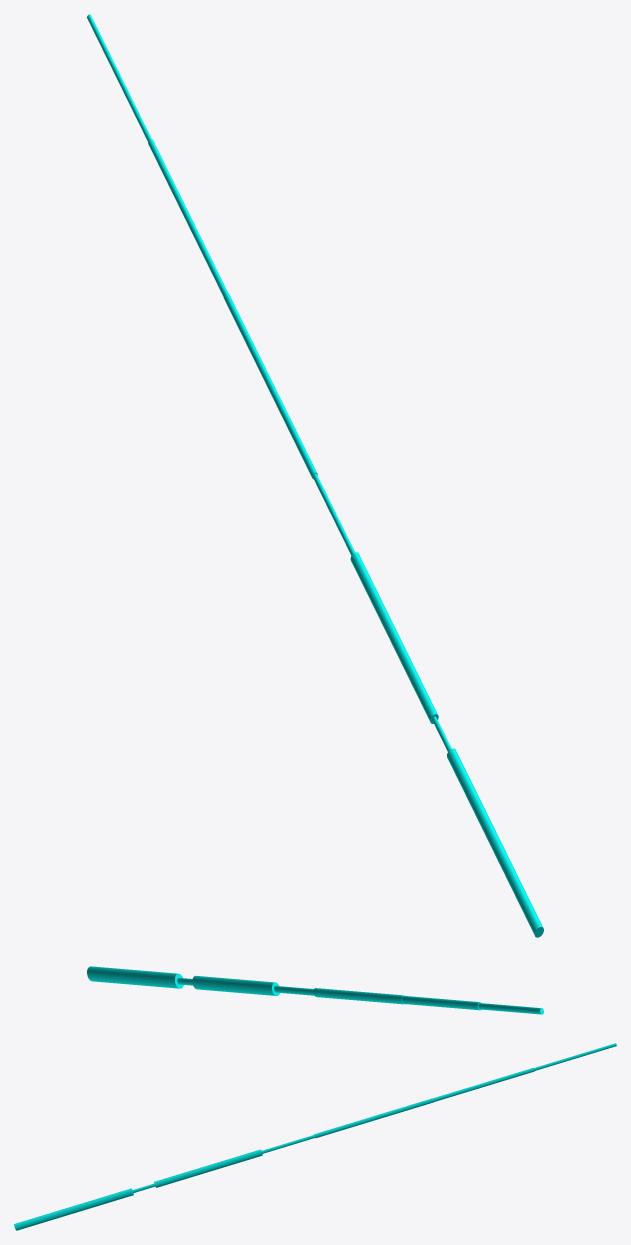
File: gun.obj
The picture shows the model from 3 angles, top to bottom: view 1: azimuth 30°, elevation 25°; view 2: azimuth 210°, elevation 25°; view 3: azimuth 270°, elevation 25°; orthographic projection. The views are drawn at different scales.
Parts seen in each view (by area): view 1: Cylinder; view 2: Cylinder; view 3: Cylinder.
Part boxes in pixels (x1,y1,x2,y2): Cylinder: [87, 14, 543, 937]; Cylinder: [87, 966, 543, 1014]; Cylinder: [14, 1043, 616, 1230].
Bounding box in the file's own units: 11.03 × 30.19 × 73.6.
